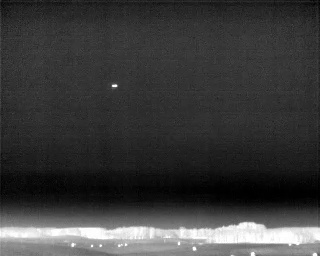AIRPLANE: (110, 82, 119, 90)
